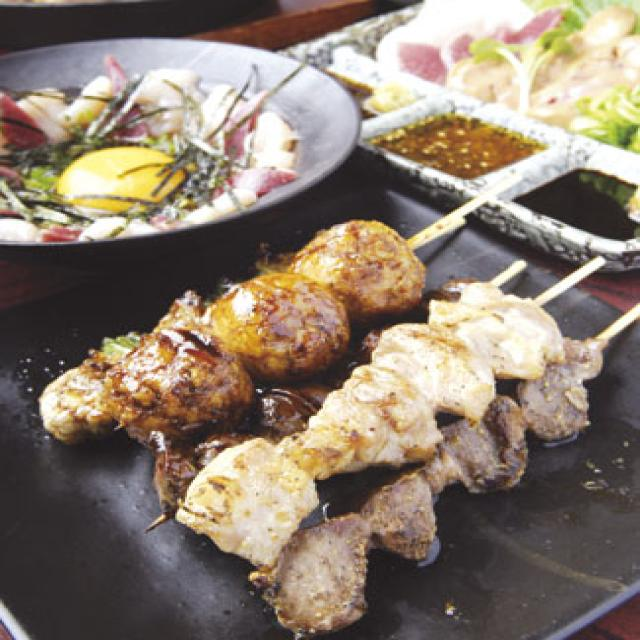烧串烤肉: (0, 217, 640, 640)
